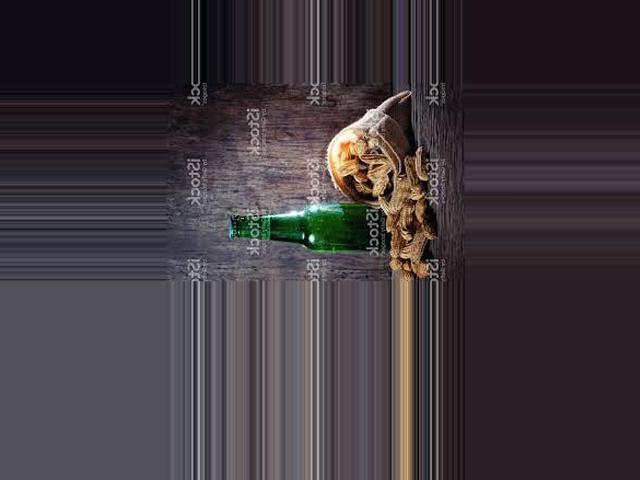beer: (228, 202, 403, 252)
